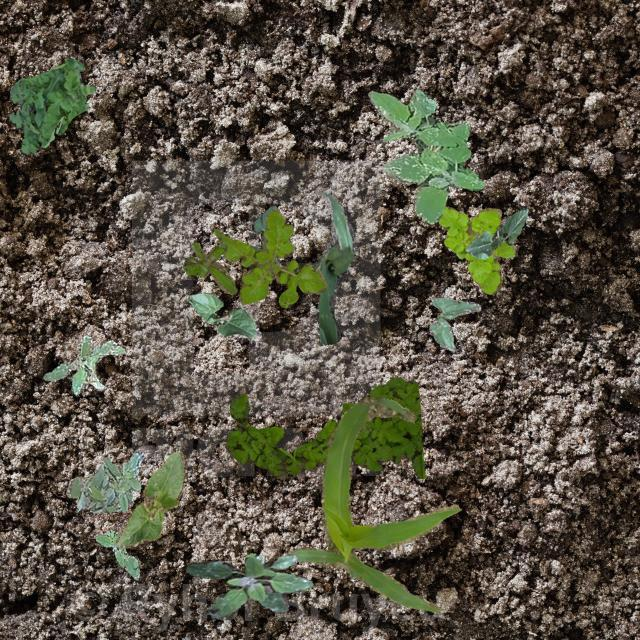crop: (286, 396, 460, 612), (114, 450, 184, 548), (311, 188, 354, 344), (188, 292, 260, 340), (464, 206, 526, 258), (428, 296, 479, 349), (250, 202, 276, 252)
weed: (224, 376, 424, 478), (368, 89, 483, 222), (213, 208, 327, 306), (9, 56, 94, 154), (185, 552, 312, 616), (436, 205, 514, 294), (42, 334, 124, 394), (64, 451, 144, 512), (182, 242, 235, 294), (94, 528, 138, 578)
